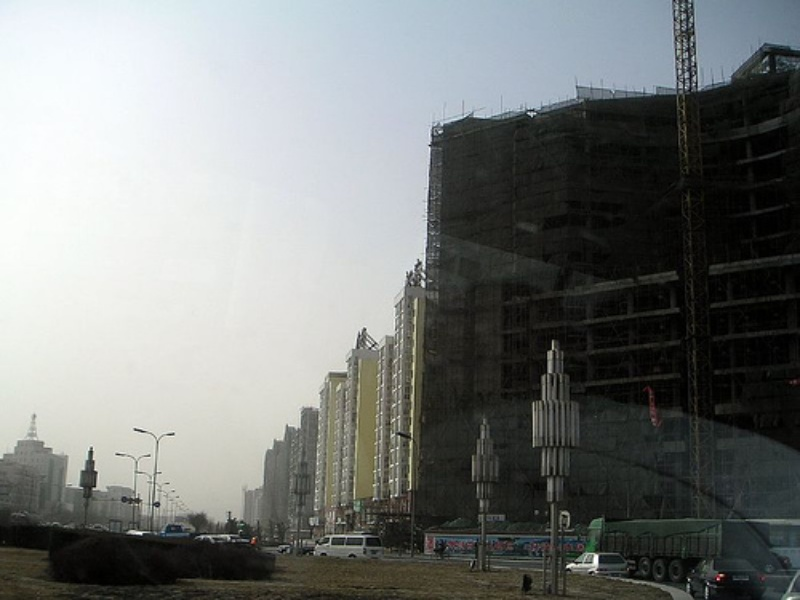car: (585, 515, 771, 580), (684, 558, 766, 599), (314, 534, 383, 559), (565, 552, 628, 578)
